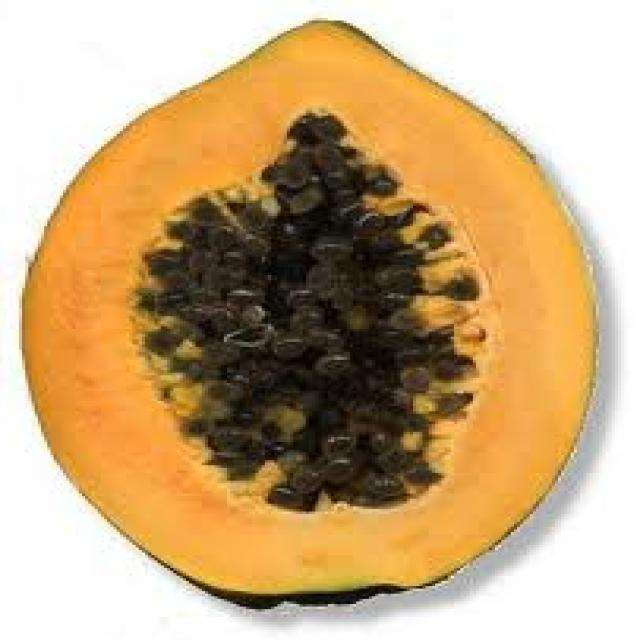papaya: (16, 11, 596, 602)
